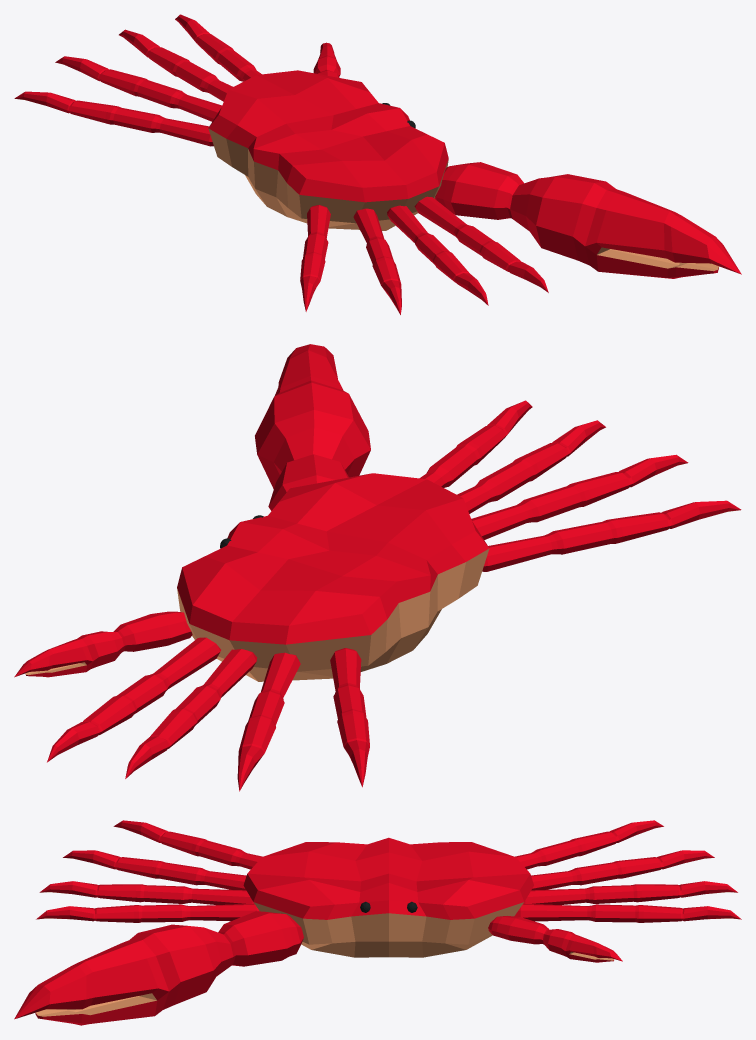
The model's file is Crazoonga.glb.
3 views of the same model, one above another, from view 1: azimuth 30°, elevation 25°; view 2: azimuth 150°, elevation 25°; view 3: azimuth 270°, elevation 25° (orthographic). The views are drawn at different scales.
Parts seen in each view (by area): view 1: Cube; view 2: Cube; view 3: Cube.
Part boxes in pixels (left/top/right/bottom): Cube: left=14, top=14, right=741, bottom=314; Cube: left=14, top=344, right=741, bottom=791; Cube: left=14, top=820, right=741, bottom=1025.
Size of the model in its own units: 5.34 by 1.19 by 9.29.
